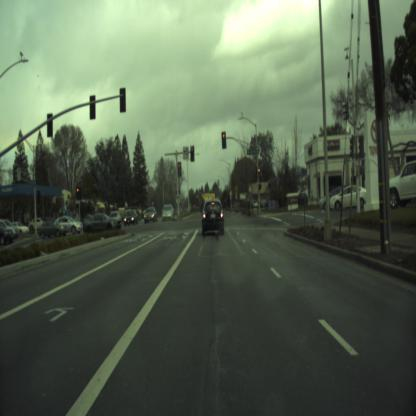Red: (221, 131, 226, 148), (258, 168, 260, 178)
RedLeft: (190, 145, 194, 161), (177, 162, 181, 176), (76, 188, 79, 198)
